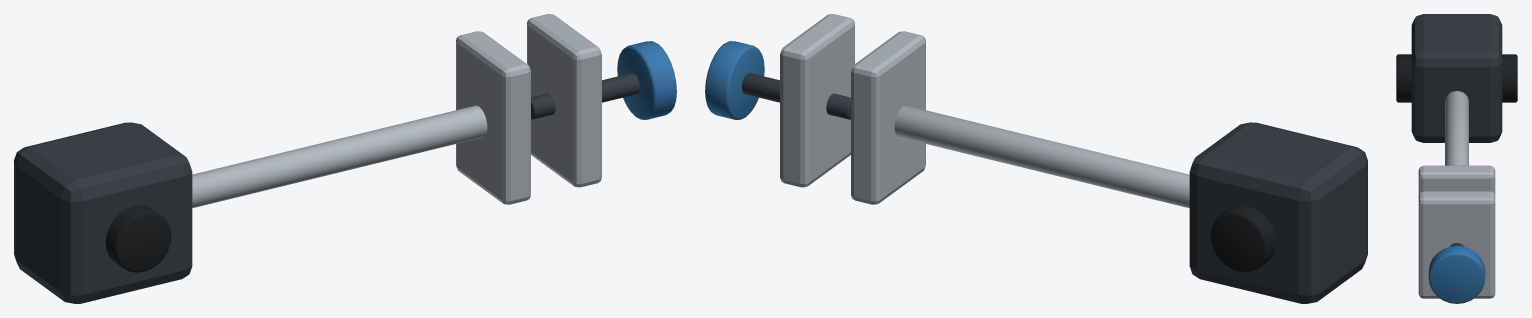
File: Adjustable_Clamp.fbx
3 views of the same model, side by side, from view 1: azimuth 30°, elevation 25°; view 2: azimuth 150°, elevation 25°; view 3: azimuth 270°, elevation 25° (orthographic). The views are drawn at different scales.
Visible parts, largest first — view 1: BossHead, ClampJawMoving, ClampJawFixed, ClampArm, StandSocket, ClampKnob, ClampScrew; view 2: BossHead, ClampJawMoving, ClampJawFixed, ClampArm, StandSocket, ClampKnob, ClampScrew; view 3: BossHead, ClampJawMoving, ClampKnob, ClampJawFixed, ClampArm, StandSocket.
Part boxes in pixels (bbox=[...]): BossHead: bbox=[14, 122, 192, 303]; ClampJawMoving: bbox=[527, 14, 601, 187]; ClampJawFixed: bbox=[456, 31, 530, 204]; ClampArm: bbox=[192, 105, 487, 208]; StandSocket: bbox=[105, 205, 171, 272]; ClampKnob: bbox=[617, 41, 676, 119]; ClampScrew: bbox=[531, 73, 639, 119]; BossHead: bbox=[1189, 122, 1367, 303]; ClampJawMoving: bbox=[780, 14, 854, 187]; ClampJawFixed: bbox=[851, 31, 925, 204]; ClampArm: bbox=[894, 105, 1189, 208]; StandSocket: bbox=[1210, 205, 1276, 272]; ClampKnob: bbox=[705, 41, 764, 119]; ClampScrew: bbox=[742, 73, 850, 119]; BossHead: bbox=[1411, 14, 1502, 142]; ClampJawMoving: bbox=[1418, 191, 1495, 298]; ClampKnob: bbox=[1428, 246, 1485, 303]; ClampJawFixed: bbox=[1418, 165, 1495, 195]; ClampArm: bbox=[1445, 91, 1468, 165]; StandSocket: bbox=[1396, 54, 1517, 102].
Bounding box in the file's own units: 0.2625 × 0.055 × 0.06.
